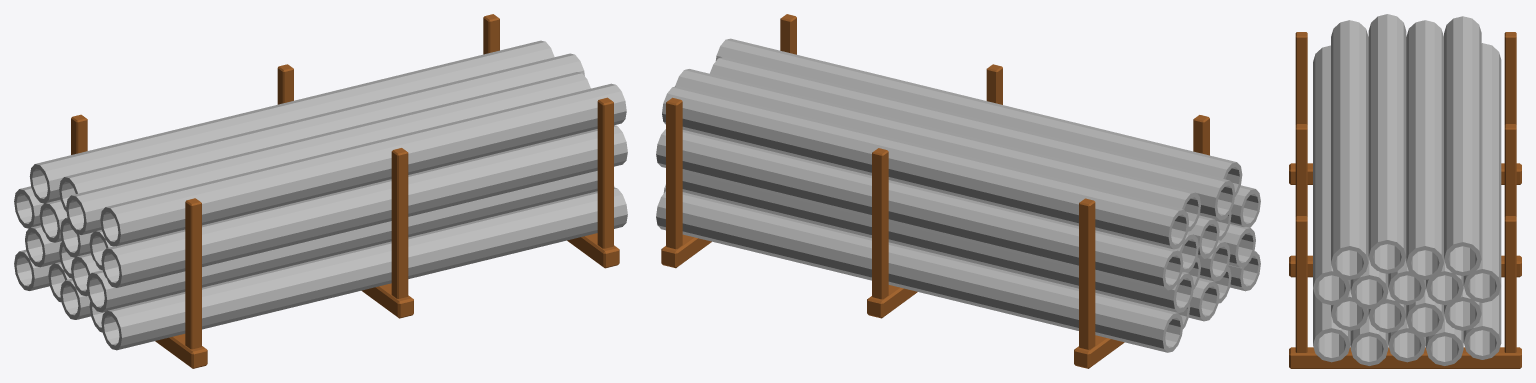
Rendered from Pipe Holder A.glb.
3 renders of one model, left to right at view 1: azimuth 30°, elevation 25°; view 2: azimuth 150°, elevation 25°; view 3: azimuth 270°, elevation 25°, orthographic. The views are drawn at different scales.
Visible parts, largest first — view 1: Pipe Holder A; view 2: Pipe Holder A; view 3: Pipe Holder A.
Part boxes in pixels (left/top/right/bottom): Pipe Holder A: left=14, top=14, right=627, bottom=368; Pipe Holder A: left=656, top=14, right=1260, bottom=368; Pipe Holder A: left=1289, top=14, right=1521, bottom=368.
Bounding box in the file's own units: 454 × 135 × 193.
